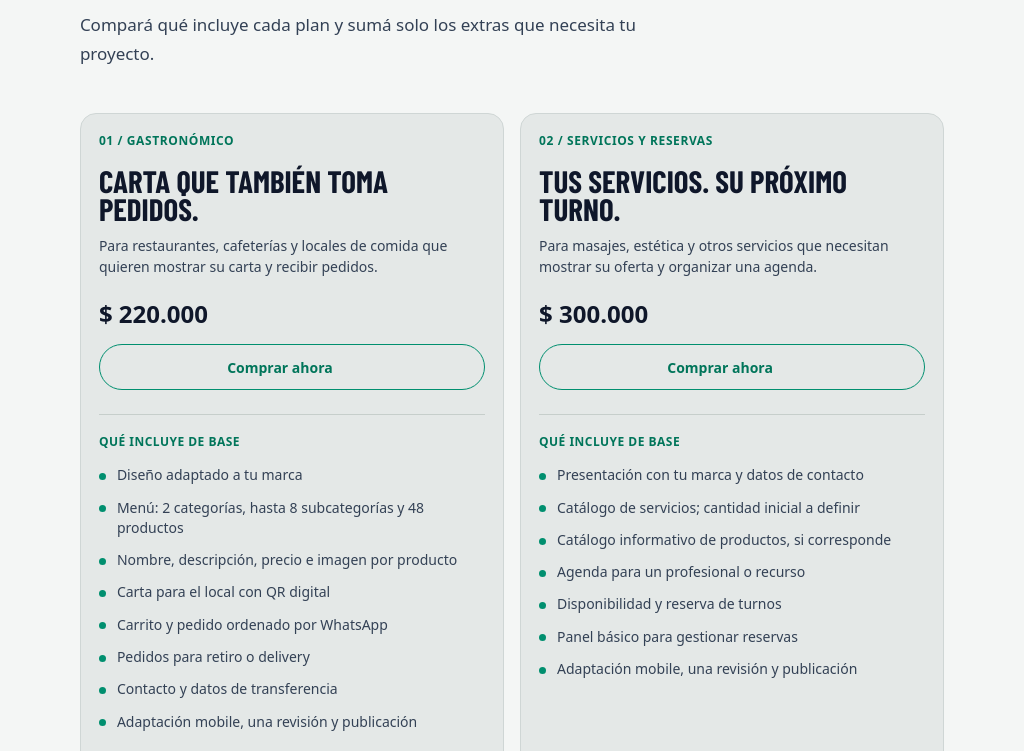
Test: landing › resets incompatible selections when another plan opens
The width and height of the screenshot is (1024, 751).
(page scrolled)
What coordinates should you click on to do the following:
click the button "Comprar ahora" below "$ 220.000"
I would click on:
 (292, 367)
Its box is [99,344,485,390].
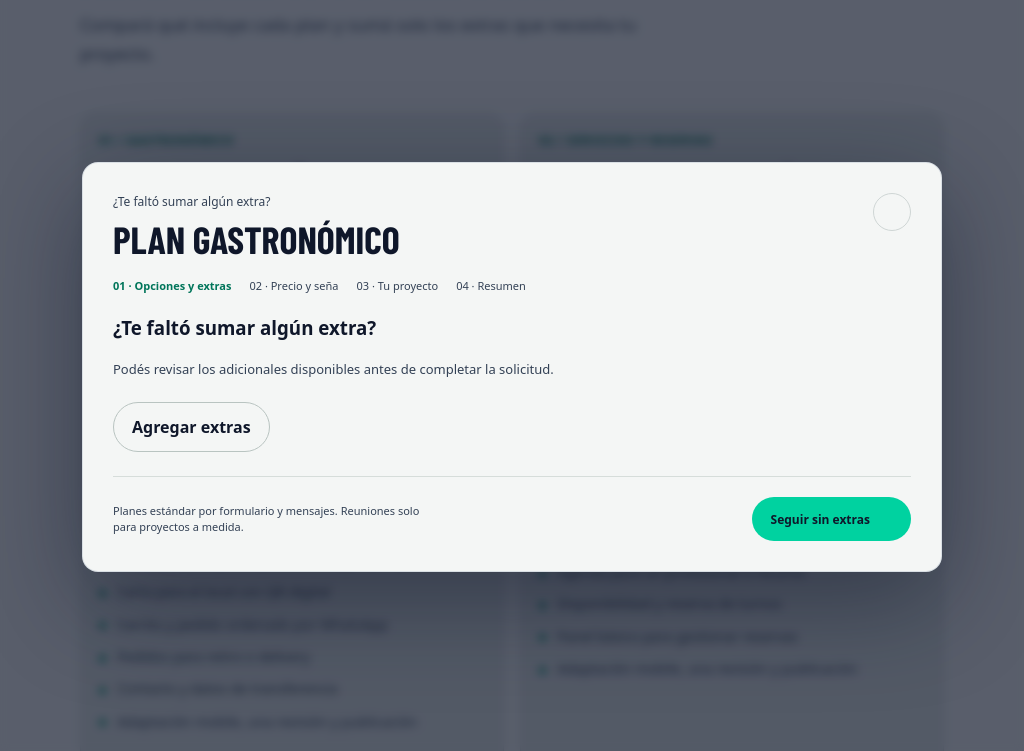
What coordinates should you click on to do the following:
click the button "Agregar extras"
I would click on:
 (191, 427)
Its box is [113,402,270,452].
(page scrolled)
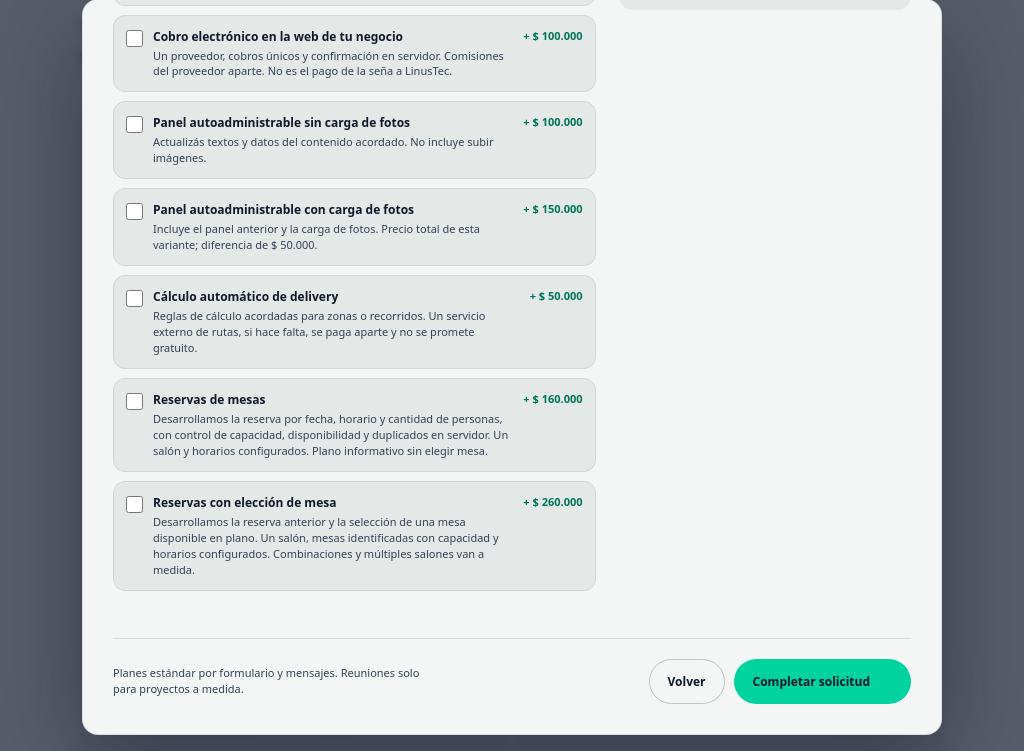
What coordinates should you click on to do the following:
click the checkbox labelled "Reservas de mesas"
I would click on:
 (134, 401)
Its box is [126,393,143,410].
(page scrolled)
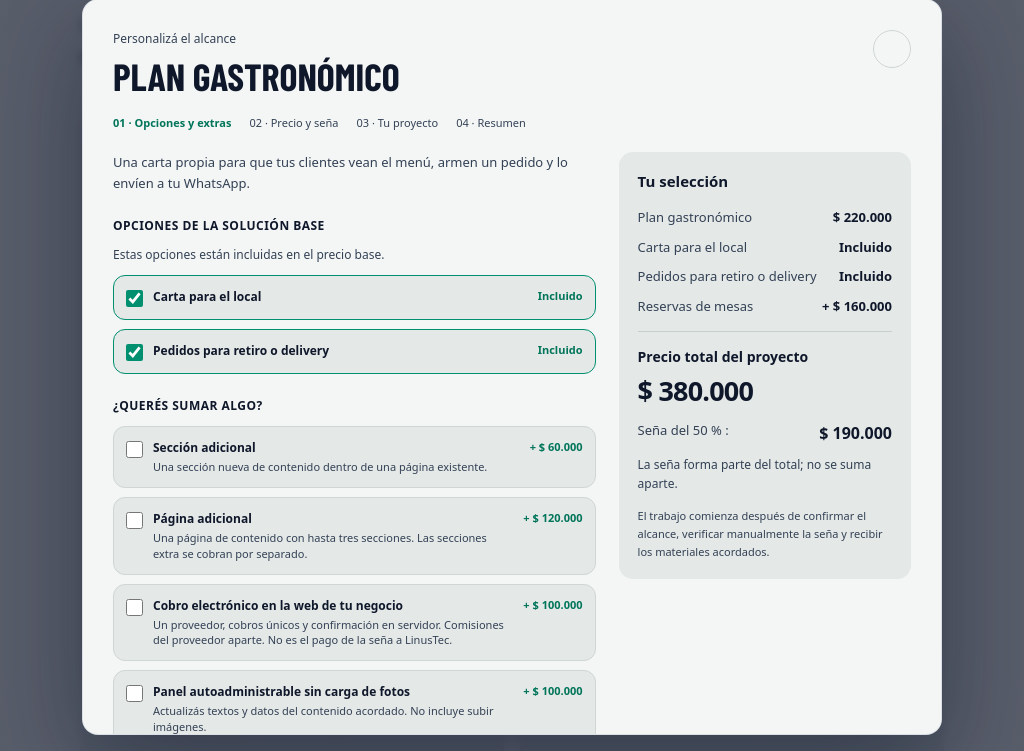
What coordinates should you click on to do the following:
click the button named "Cerrar configurador"
I would click on:
 (892, 49)
Its box is [873,30,911,68].
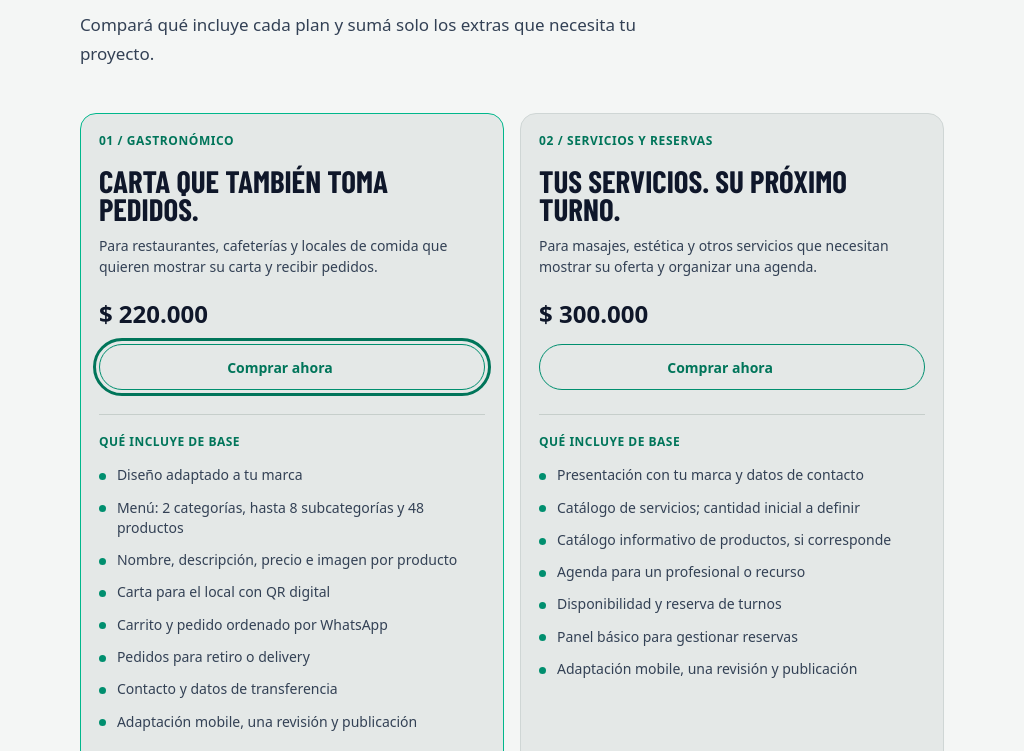
What coordinates should you click on to do the following:
click the button "Comprar ahora" below "$ 300.000"
I would click on:
 (732, 367)
Its box is [539,344,925,390].
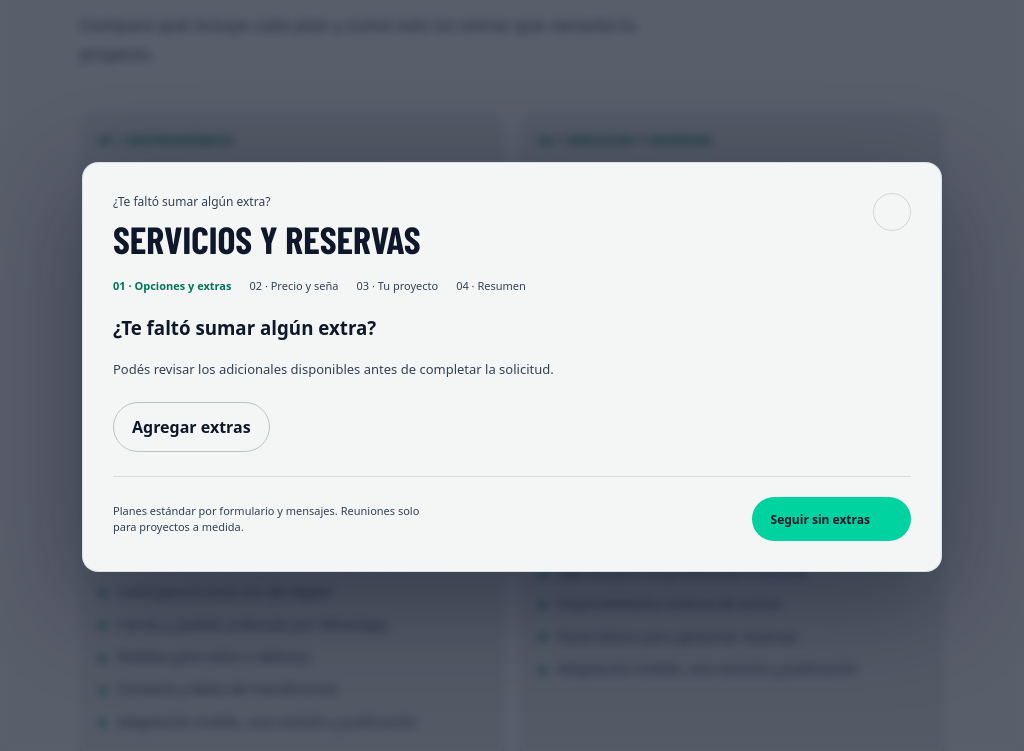
What coordinates should you click on to do the following:
click the button "Agregar extras"
I would click on:
 (191, 427)
Its box is [113,402,270,452].
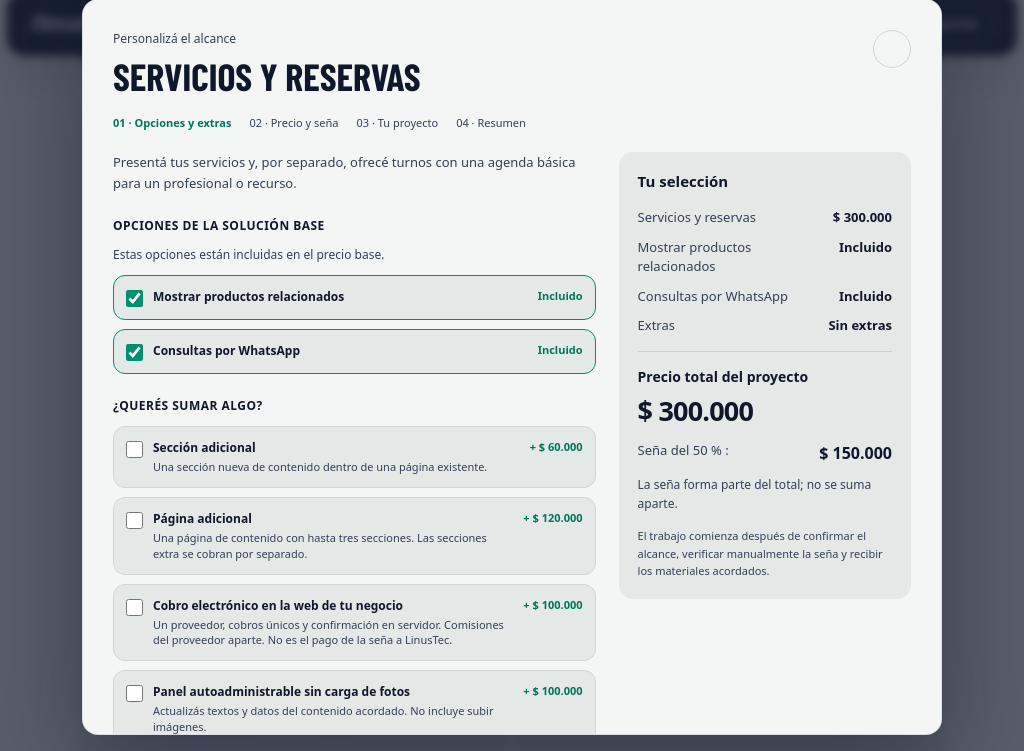
expect the text "Reservas de mesas" is not shown: met
expect the checkbox labelled "Panel autoadministrable sin carga de fotos" is not checked: met, box [126,685,143,702]
